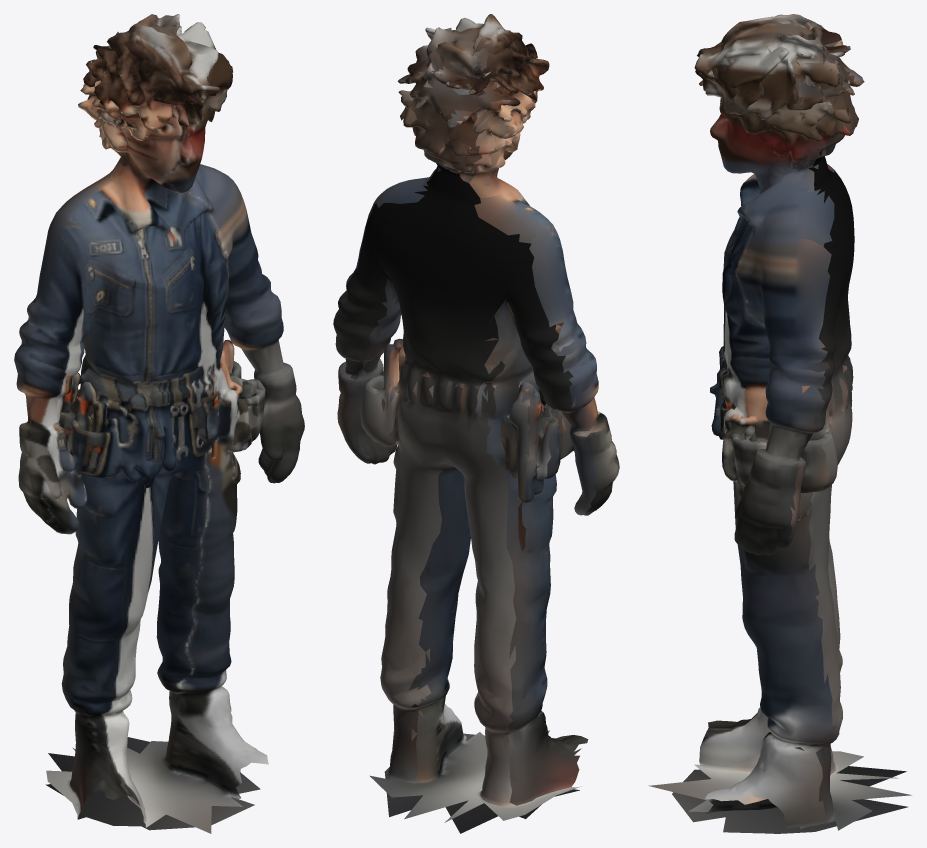
Rendered from elio.glb.
3 renders of one model, left to right at view 1: azimuth 30°, elevation 25°; view 2: azimuth 150°, elevation 25°; view 3: azimuth 270°, elevation 25°, orthographic. The views are drawn at different scales.
Parts seen in each view (by area): view 1: perso; view 2: perso; view 3: perso.
Part boxes in pixels (<box>): perso: <box>14,14,304,833</box>; perso: <box>333,14,619,833</box>; perso: <box>648,14,911,833</box>.
Bounding box in the file's own units: 0.7507 × 1.98 × 0.613.
1 material, 1 textured.
